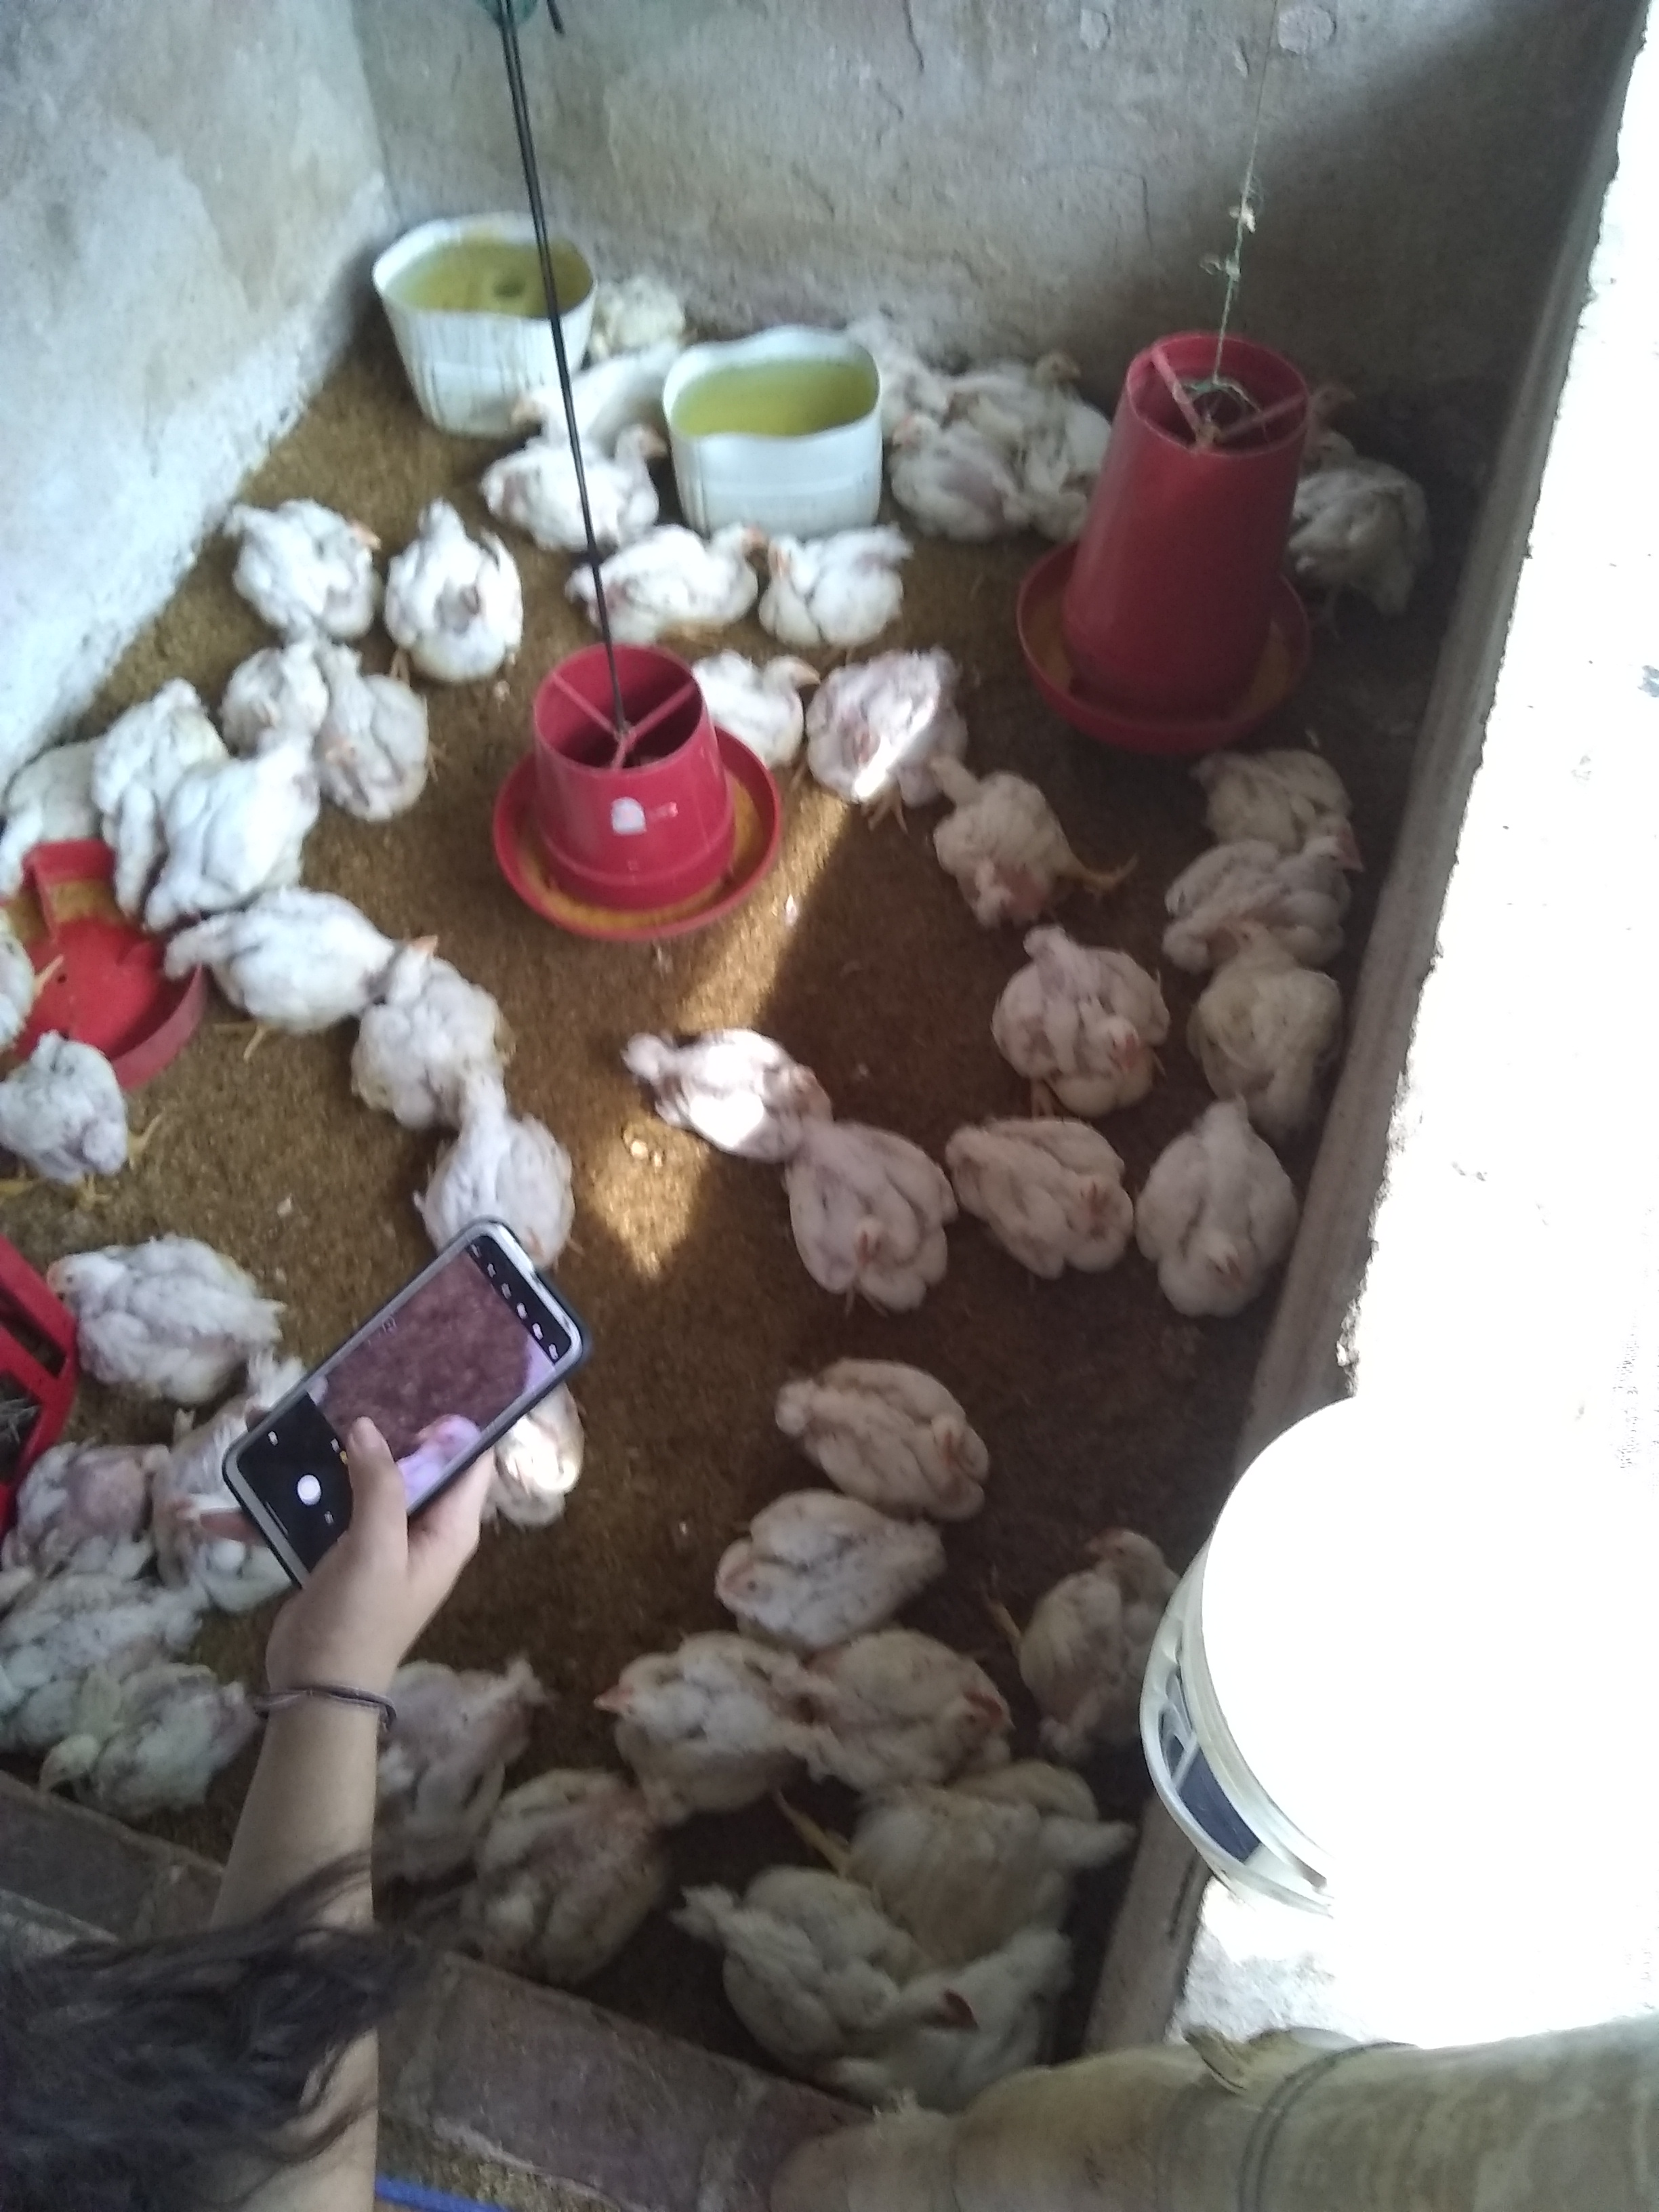Pollos: (690, 1878, 976, 2050), (464, 1787, 653, 1959), (586, 1646, 798, 1782), (94, 679, 213, 916), (31, 1667, 242, 1799), (782, 1372, 992, 1505), (153, 892, 357, 1026), (44, 1240, 267, 1362), (1208, 914, 1330, 1125), (1002, 941, 1164, 1092), (211, 491, 387, 627), (7, 1423, 162, 1576), (922, 752, 1077, 902), (1161, 1122, 1290, 1299), (965, 1125, 1136, 1259), (2, 1026, 138, 1186), (394, 502, 518, 672), (362, 932, 514, 1069), (1035, 1524, 1155, 1696), (317, 643, 436, 817), (823, 1134, 948, 1298), (432, 1073, 566, 1223), (845, 1639, 1014, 1757), (824, 644, 948, 801), (1302, 423, 1415, 590), (599, 516, 765, 629), (509, 421, 664, 542), (723, 1507, 849, 1637), (765, 519, 908, 631), (889, 416, 1012, 528), (1208, 752, 1366, 838), (1188, 840, 1356, 916), (680, 1052, 821, 1130), (714, 644, 819, 744), (955, 343, 1077, 416), (594, 273, 685, 348)
